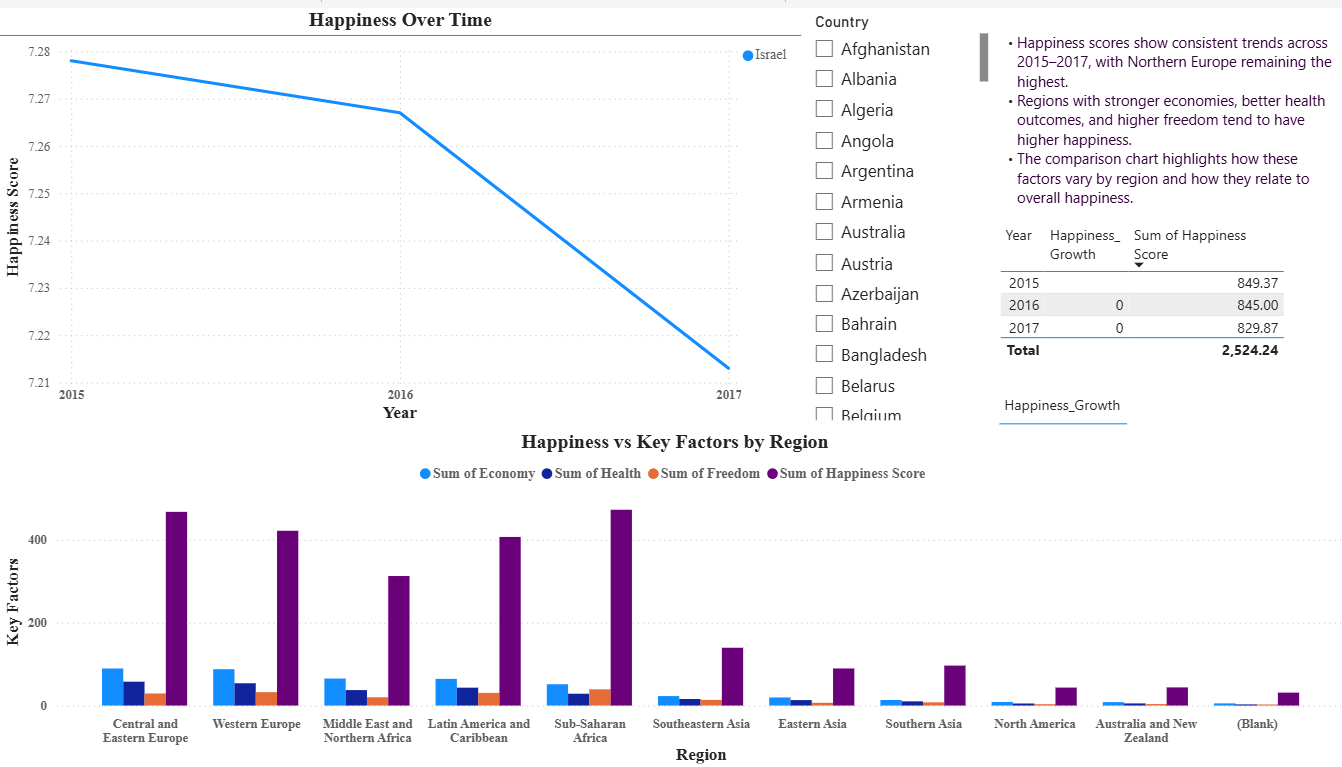

What the dashboard file says about the page in this screenshot:
{"tool":"powerbi","page":{"name":"Trends & Factors","canvas":[1280,720],"ordinal":1},"visuals":[{"type":"lineChart","title":"Happiness Over Time","fields":{"Category":["happiness_all_years.Year"],"Y":["Sum(happiness_all_years.Happiness Score)"],"Series":["happiness_all_years.Country"]},"box":[0,0,760,395],"z":0},{"type":"clusteredColumnChart","title":"Happiness vs Key Factors by Region","fields":{"Category":["happiness_all_years.Region"],"Y":["Sum(happiness_all_years.Economy)","Sum(happiness_all_years.Health)","Sum(happiness_all_years.Freedom)","Sum(happiness_all_years.Happiness Score)"]},"box":[0,400,1280,320],"z":1000},{"type":"textbox","box":[941.4,0,338.6,218.6],"z":2000},{"type":"tableEx","fields":{"Values":["happiness_2015.Happiness_Growth"]},"box":[941.4,360,338.6,68.6],"z":3000},{"type":"tableEx","fields":{"Values":["happiness_all_years.Year","happiness_2015.Happiness_Growth","Sum(happiness_all_years.Happiness Score)"]},"box":[941.7,198.3,338.3,161.7],"z":4000},{"type":"slicer","fields":{"Values":["happiness_all_years.Country"]},"box":[760,0,181.7,395],"z":5000}]}

Visuals, with their boxes in screenshot pixels (x1, y1, x2, y2), scaled from the page's 1280x720 canvas onto the 1342x767 screenshot:
"Happiness Over Time" lineChart: detection(0, 0, 797, 421)
"Happiness vs Key Factors by Region" clusteredColumnChart: detection(0, 426, 1341, 766)
textbox: detection(987, 0, 1341, 233)
tableEx - happiness_2015.Happiness_Growth: detection(987, 384, 1341, 457)
tableEx - happiness_all_years.Year x happiness_2015.Happiness_Growth: detection(987, 211, 1341, 384)
slicer - happiness_all_years.Country: detection(797, 0, 987, 421)
